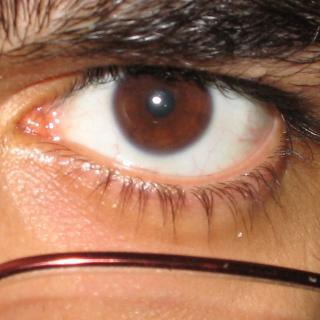pupil: (146, 88, 175, 118)
